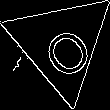O_NW: (29, 10, 93, 78)
